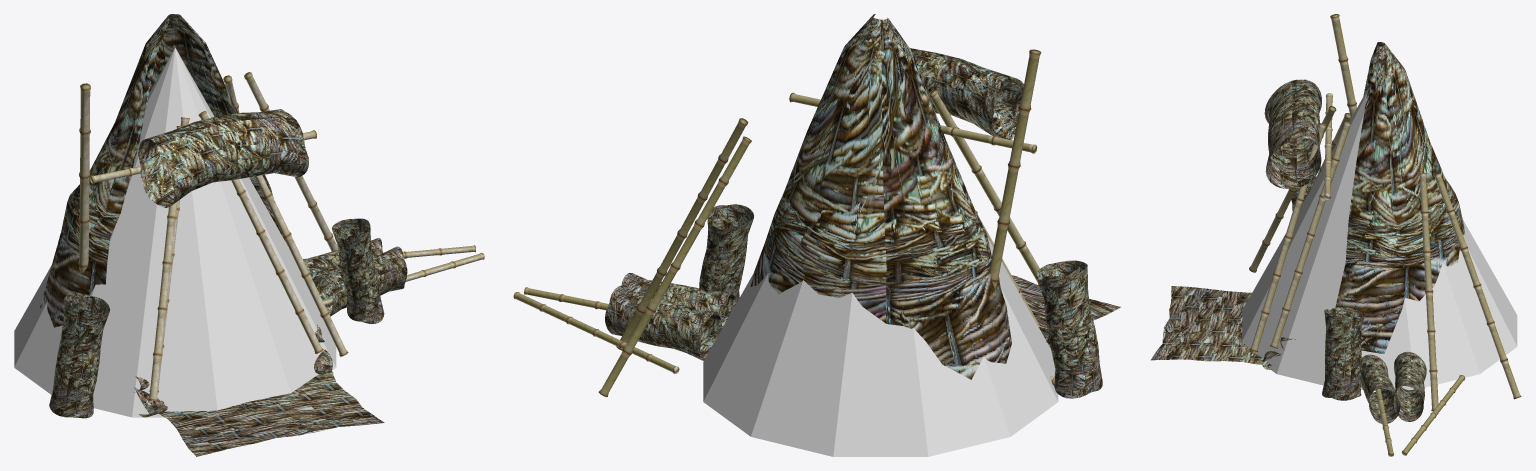
File: vicentecarro_old_fisherman_straw_hut.dae
3 views of the same model, side by side, from view 1: azimuth 30°, elevation 25°; view 2: azimuth 150°, elevation 25°; view 3: azimuth 270°, elevation 25° (orthographic). The views are drawn at different scales.
Visible parts, largest first — view 1: Cone, Mesh_001, Mesh, Mesh_011, Mesh_004, Mesh_008, Mesh_009, Mesh_022, Mesh_015, Mesh_014, Mesh_013, Mesh_019 (+7 smaller); view 2: Mesh_001, Cone, Mesh_004, Mesh, Mesh_010, Mesh_008, Mesh_012, Mesh_022, Mesh_019, Mesh_009, Mesh_015, Mesh_017 (+3 smaller); view 3: Cone, Mesh_001, Mesh_011, Mesh, Mesh_008, Mesh_010, Mesh_012, Mesh_019, Mesh_009, Mesh_014, Mesh_013, Mesh_022 (+4 smaller).
Part boxes in pixels (bbox=[...]): Cone: bbox=[14, 47, 336, 417]; Mesh_001: bbox=[40, 14, 287, 327]; Mesh: bbox=[138, 109, 308, 207]; Mesh_011: bbox=[159, 371, 384, 456]; Mesh_004: bbox=[49, 292, 109, 418]; Mesh_008: bbox=[332, 218, 384, 323]; Mesh_009: bbox=[312, 246, 407, 316]; Mesh_022: bbox=[78, 83, 90, 273]; Mesh_015: bbox=[148, 126, 182, 401]; Mesh_014: bbox=[198, 111, 323, 353]; Mesh_013: bbox=[254, 175, 348, 356]; Mesh_019: bbox=[244, 72, 338, 251]; Mesh_001: bbox=[750, 14, 1011, 379]; Cone: bbox=[703, 238, 1058, 456]; Mesh_004: bbox=[1036, 260, 1102, 398]; Mesh: bbox=[910, 48, 1023, 140]; Mesh_010: bbox=[605, 285, 722, 360]; Mesh_008: bbox=[699, 204, 753, 302]; Mesh_012: bbox=[598, 136, 751, 396]; Mesh_022: bbox=[990, 49, 1041, 289]; Mesh_019: bbox=[616, 118, 748, 350]; Mesh_009: bbox=[621, 273, 736, 326]; Mesh_015: bbox=[928, 90, 1039, 286]; Mesh_017: bbox=[513, 292, 679, 373]; Cone: bbox=[1242, 89, 1517, 389]; Mesh_001: bbox=[1335, 42, 1464, 353]; Mesh_011: bbox=[1150, 286, 1272, 366]; Mesh: bbox=[1264, 79, 1321, 189]; Mesh_008: bbox=[1322, 307, 1364, 400]; Mesh_010: bbox=[1393, 351, 1426, 421]; Mesh_012: bbox=[1433, 173, 1521, 399]; Mesh_019: bbox=[1419, 173, 1438, 411]; Mesh_009: bbox=[1360, 354, 1400, 423]; Mesh_014: bbox=[1270, 121, 1351, 348]; Mesh_013: bbox=[1250, 123, 1326, 351]; Mesh_022: bbox=[1330, 14, 1356, 116].
Size of the model in its own units: 7.91 by 6.19 by 5.29.
Materials: 4 (2 with a texture image).
